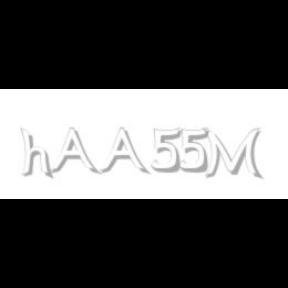5: (150, 128, 181, 174), (179, 128, 210, 174)
A: (49, 128, 97, 176), (99, 128, 147, 176)
M: (202, 128, 262, 180)
h: (20, 128, 56, 180)
